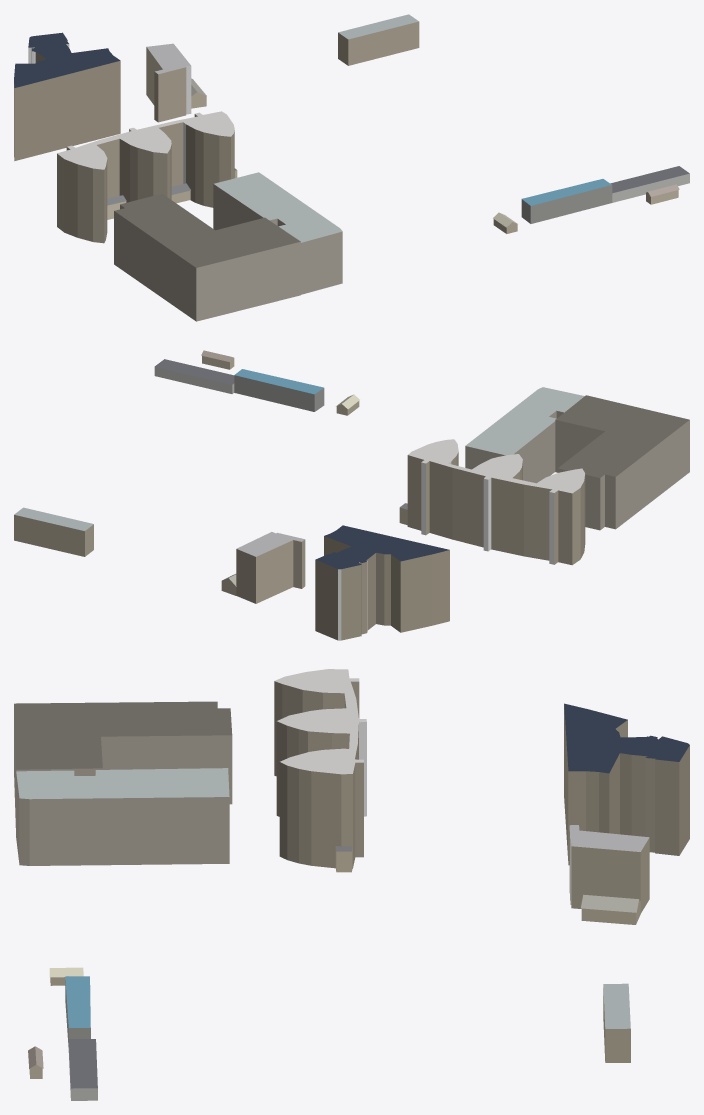
3 renders of one model, top to bottom at view 1: azimuth 30°, elevation 25°; view 2: azimuth 150°, elevation 25°; view 3: azimuth 270°, elevation 25°, orthographic. The views are drawn at different scales.
Parts seen in each view (by area): view 1: tuile; view 2: tuile; view 3: tuile.
Part boxes in pixels (x1,y1,x2,y2): tuile: (14,14,689,321); tuile: (14,350,689,640); tuile: (14,669,689,1100).
Size of the model in its own units: 287 by 41.95 by 248.
